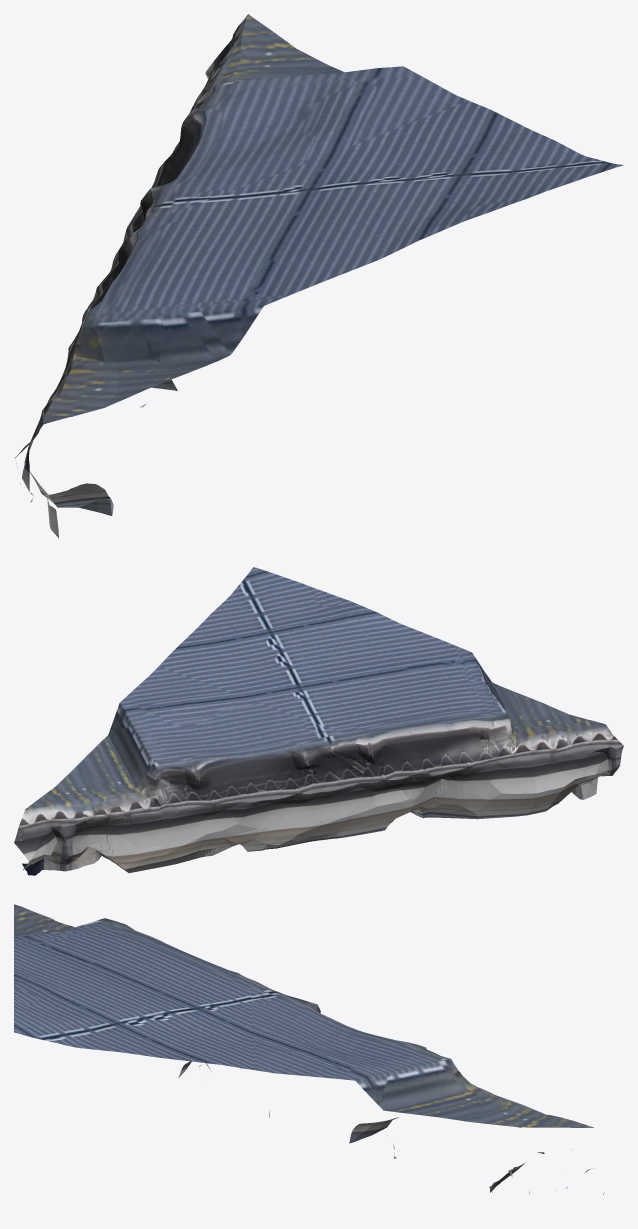
3 renders of one model, top to bottom at view 1: azimuth 30°, elevation 25°; view 2: azimuth 150°, elevation 25°; view 3: azimuth 270°, elevation 25°, orthographic. The views are drawn at different scales.
Size of the model in its own units: 3.73 by 1.38 by 4.18.
2 materials, 2 textured.
